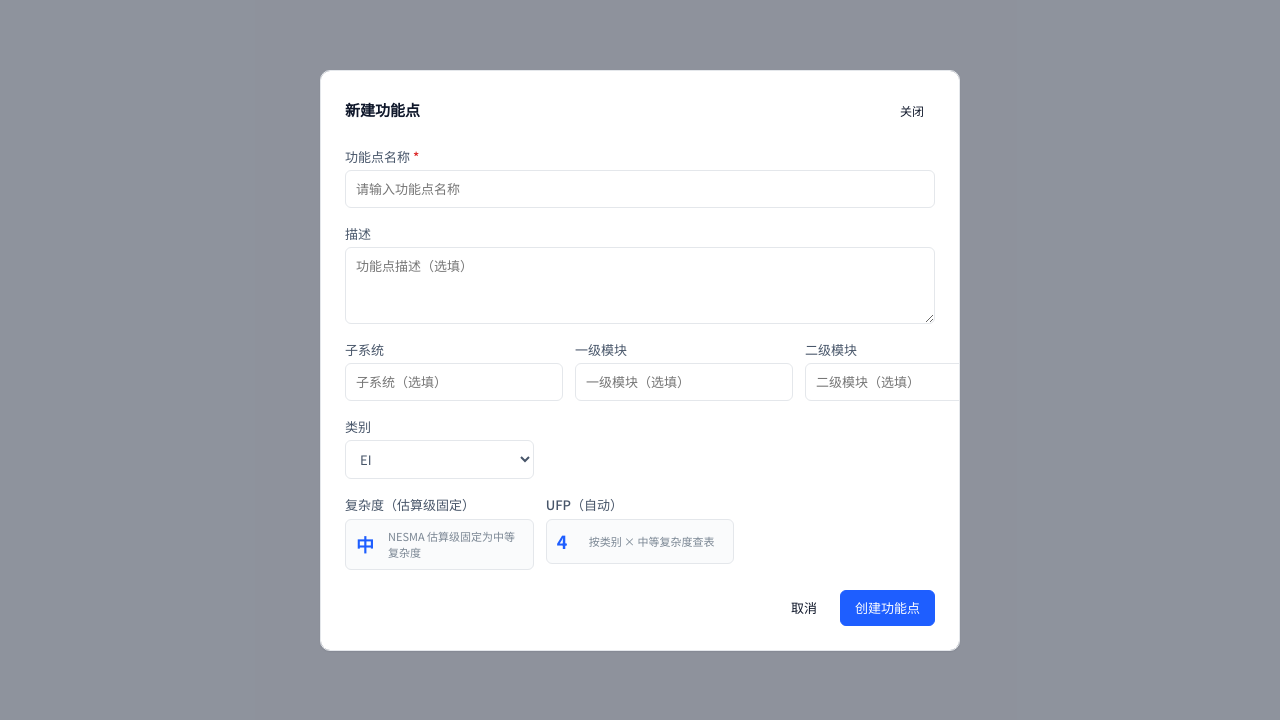
FpFormModal › API 失败时显示错误 banner
In the field with id "fp-name": (640, 189) [345,170,935,208], type "测试功能点"
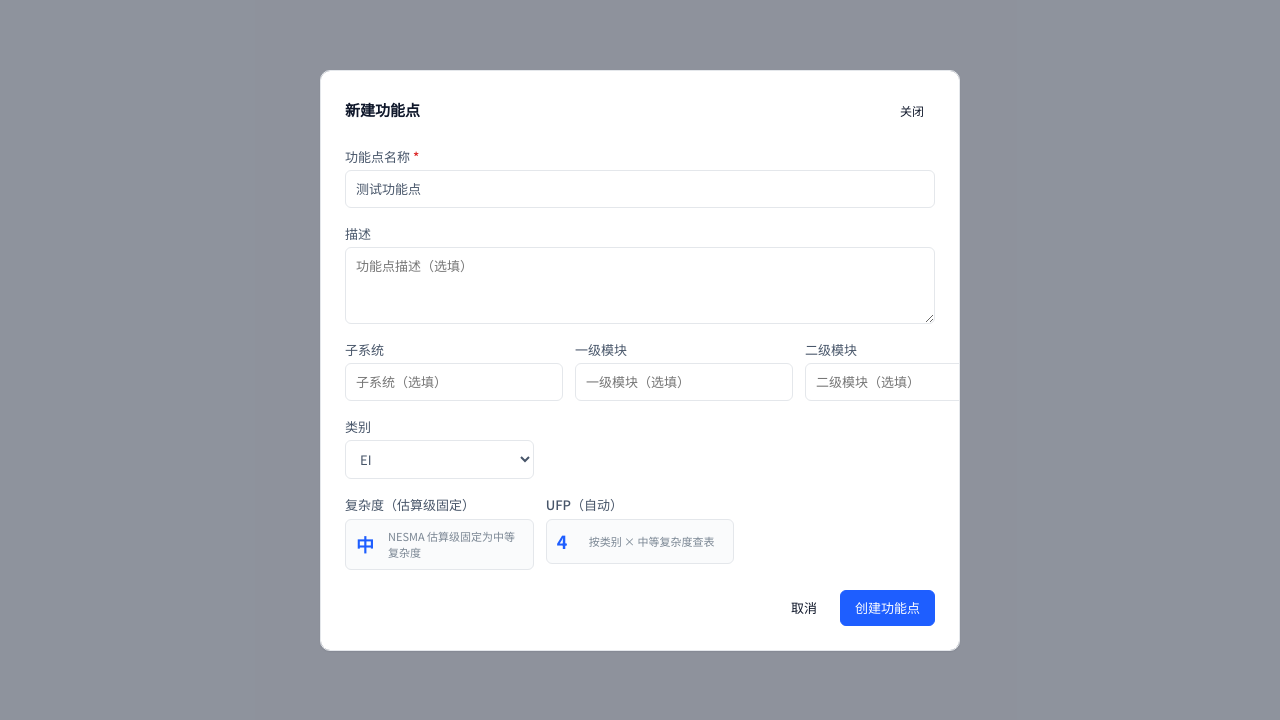
Submit the form, box [345,146,935,626]
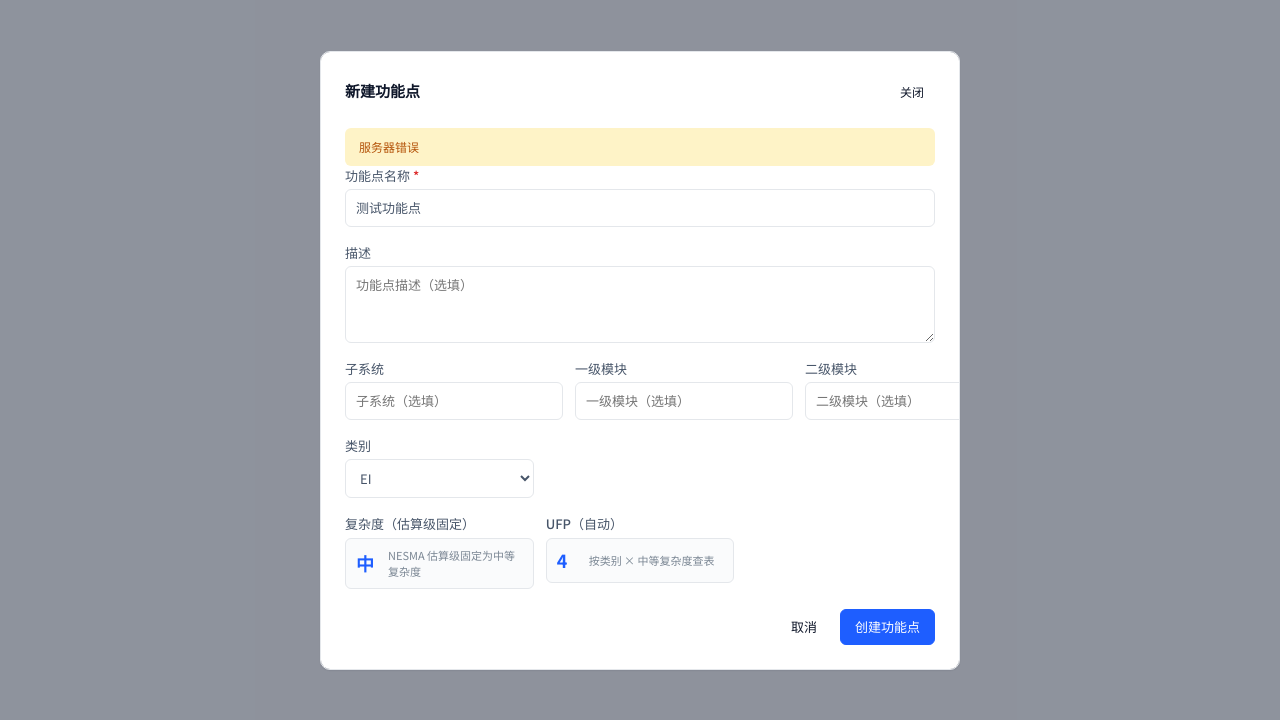
Expected: the text "服务器错误" is shown, [345,128,935,166]
